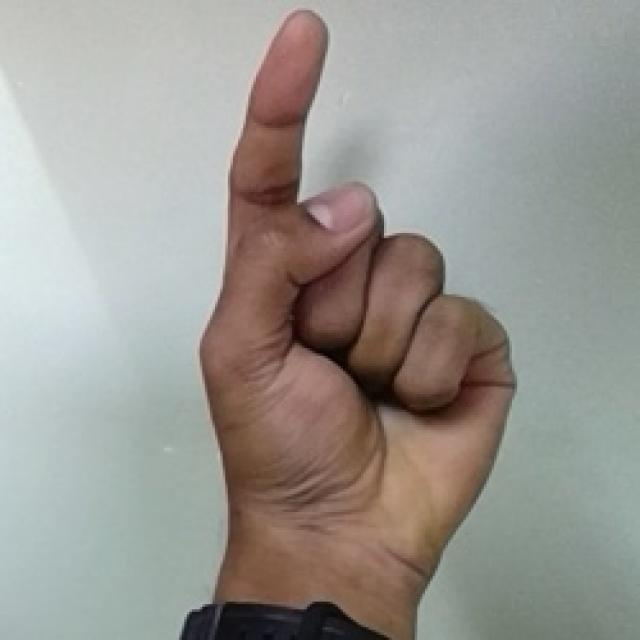Numeric-1: (207, 7, 514, 554)
